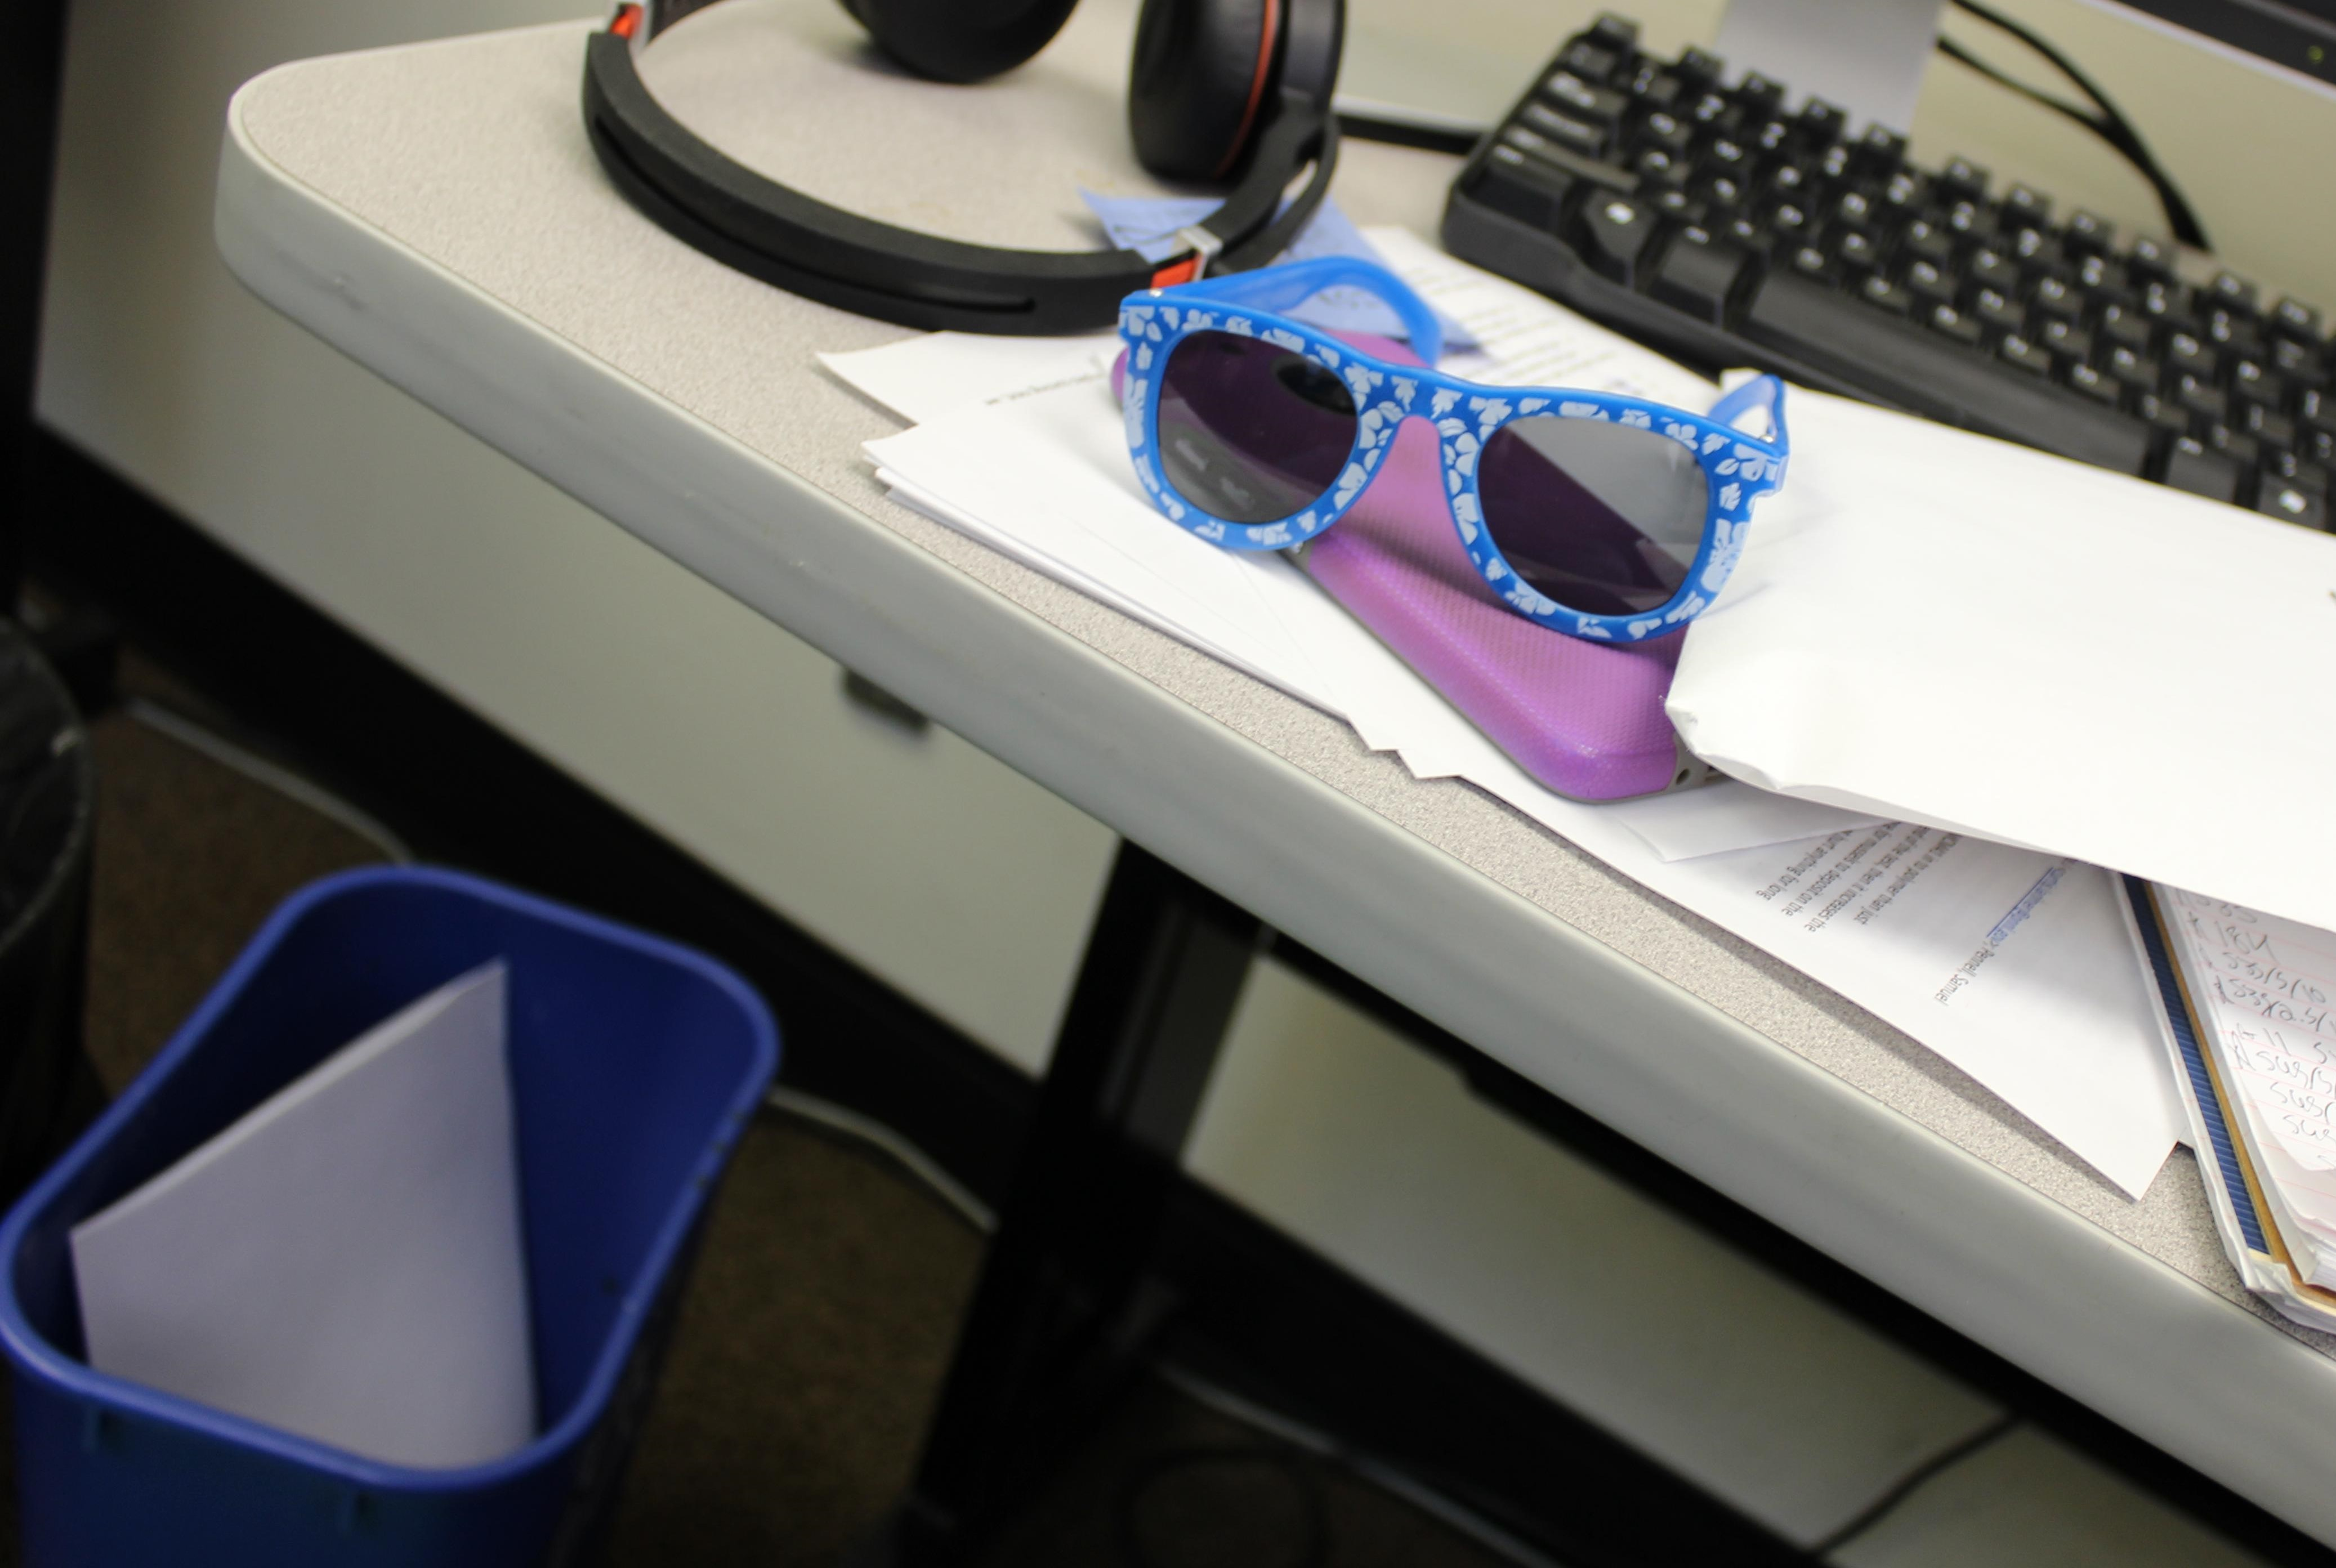blueSunglasses: (1095, 236, 1809, 667)
